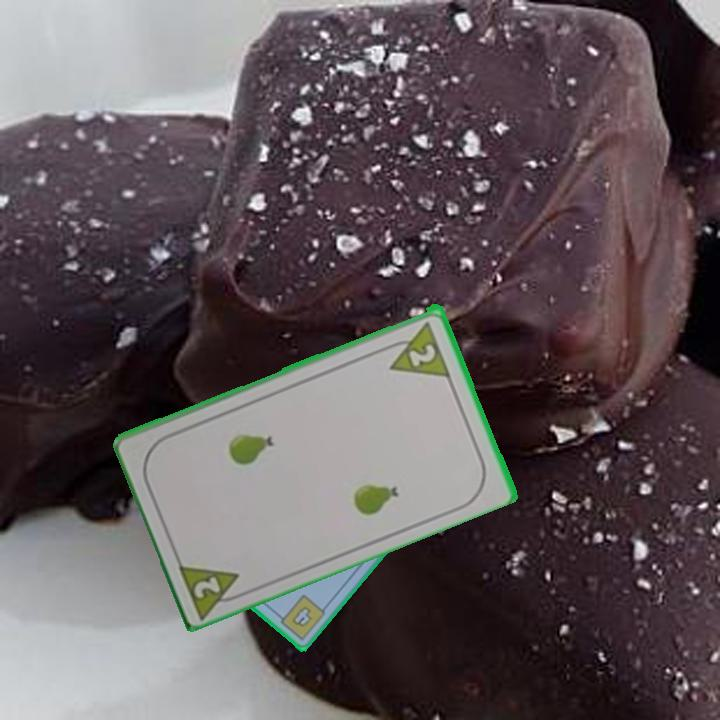2p: (174, 557, 251, 619), (379, 317, 453, 379)
4b: (273, 591, 328, 643)
